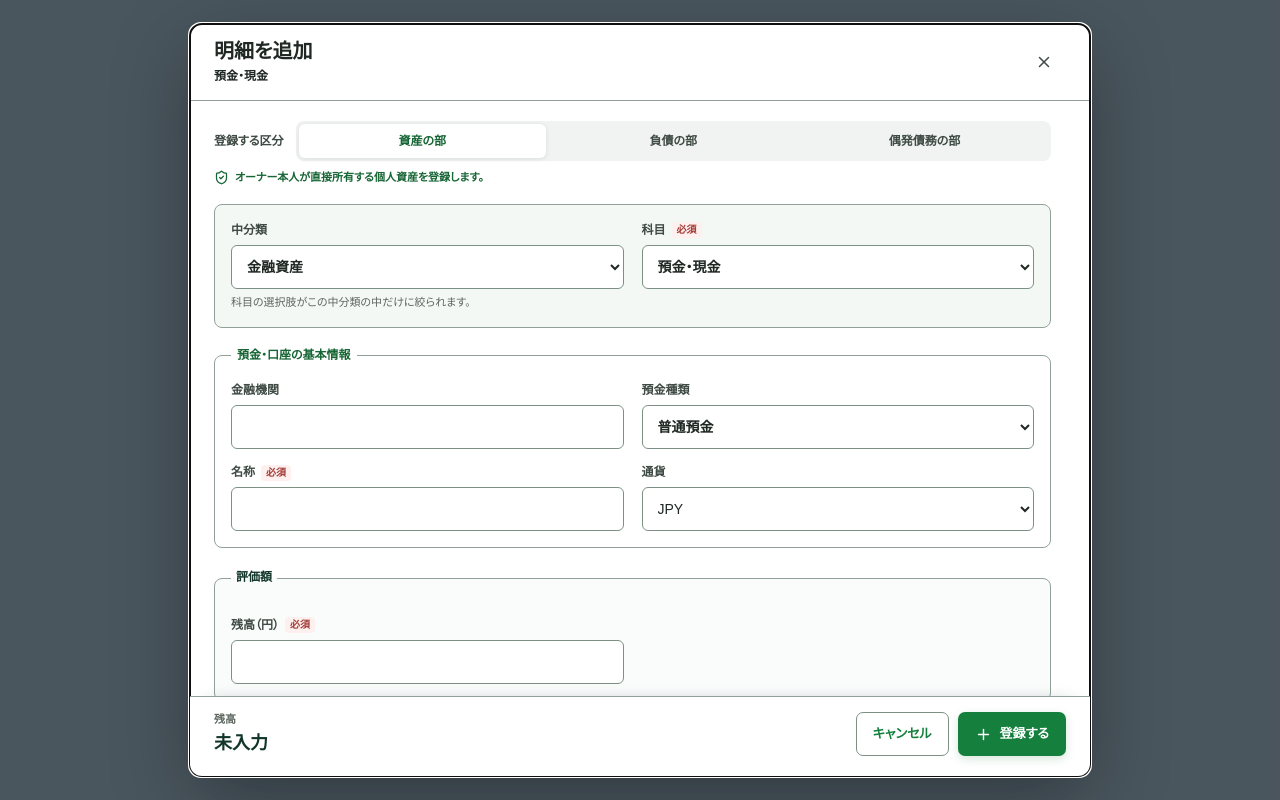
Test case: PositionModal（切り替えたときに残る値） › 外貨を選んだあと区分を切り替えると円に戻る
Select "USD" in the dropdown labelled "通貨" at x=838, y=510, box [642, 488, 1034, 532]
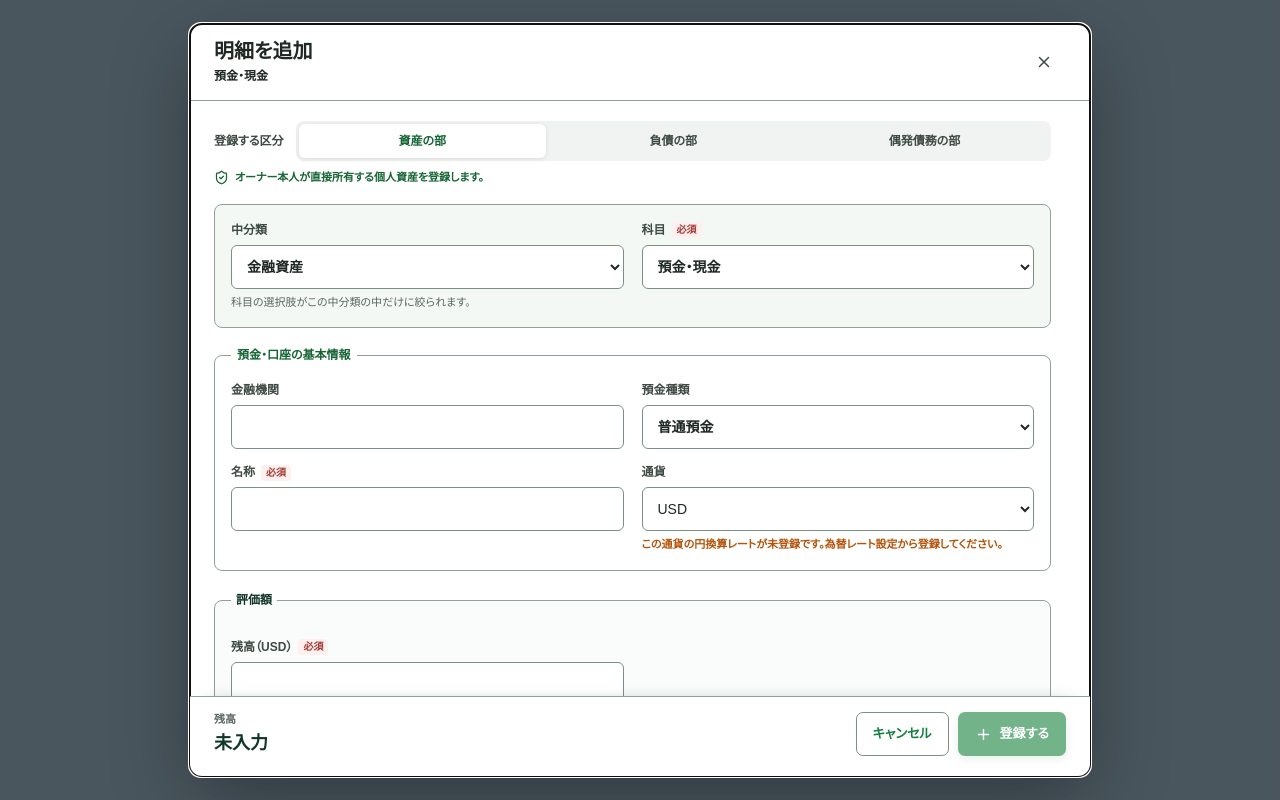
Type "1000" into the field labelled "残高（USD）".
click(427, 684); type("1000")  # box [231, 662, 624, 706]
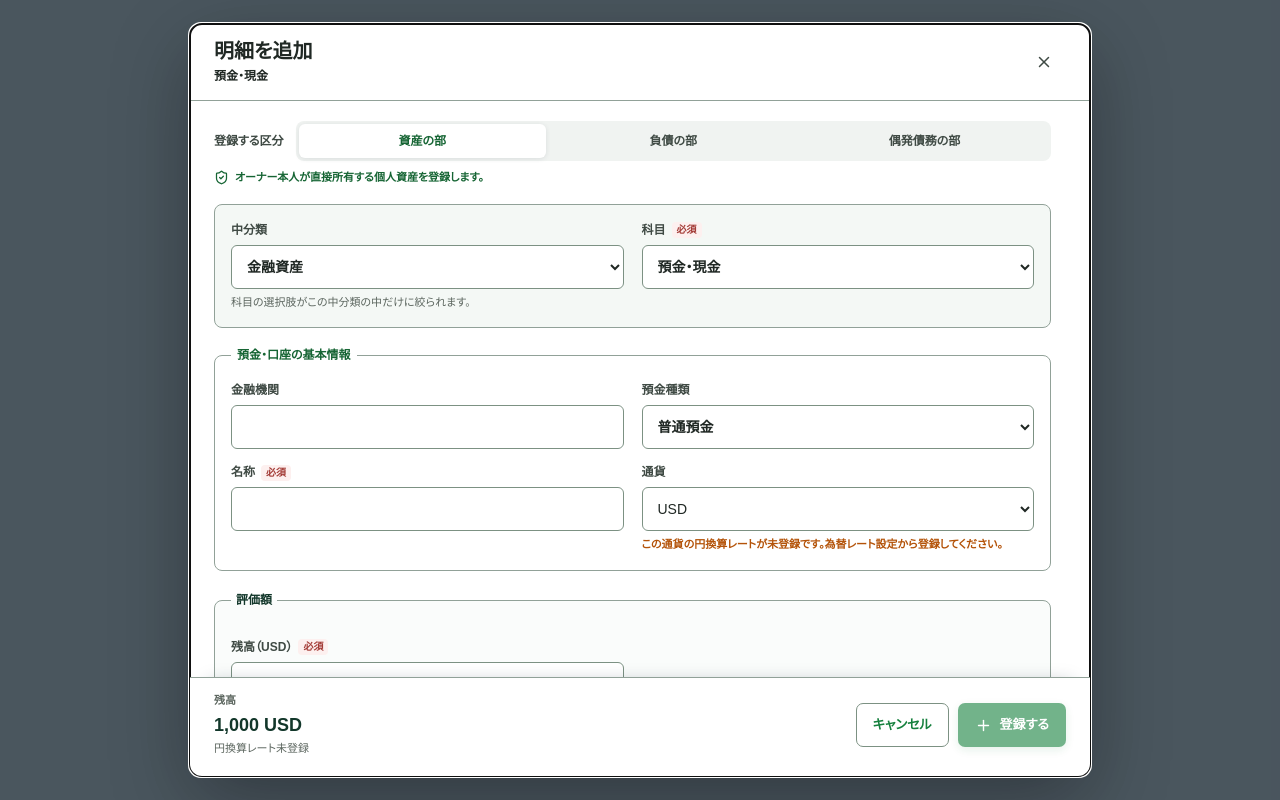
Check: the text "1,000 USD" is shown, box [214, 711, 309, 739]
Click the radio button labelled "負債の部".
click(673, 141)  # box [650, 134, 697, 148]
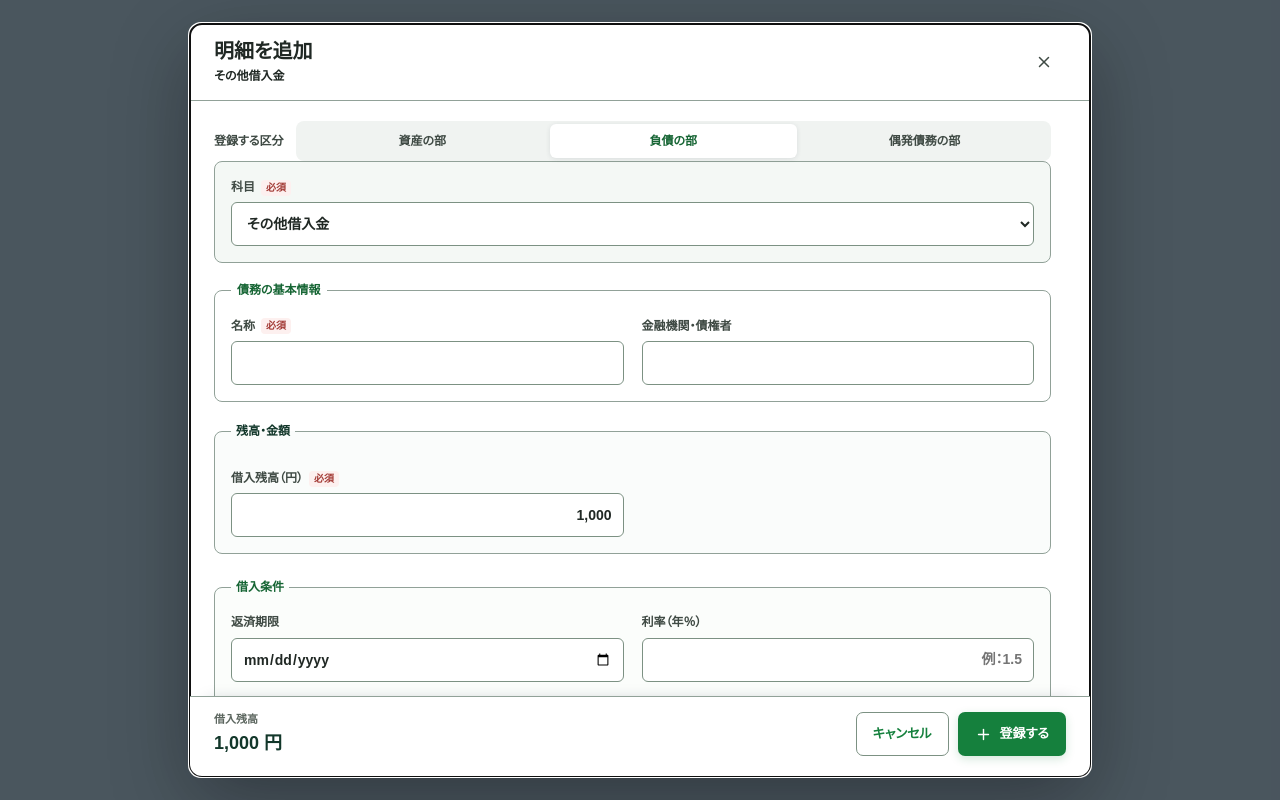
Check: the element named "currency" holds "JPY", box [231, 471, 624, 537]
Check: the label labelled "通貨" is gone
